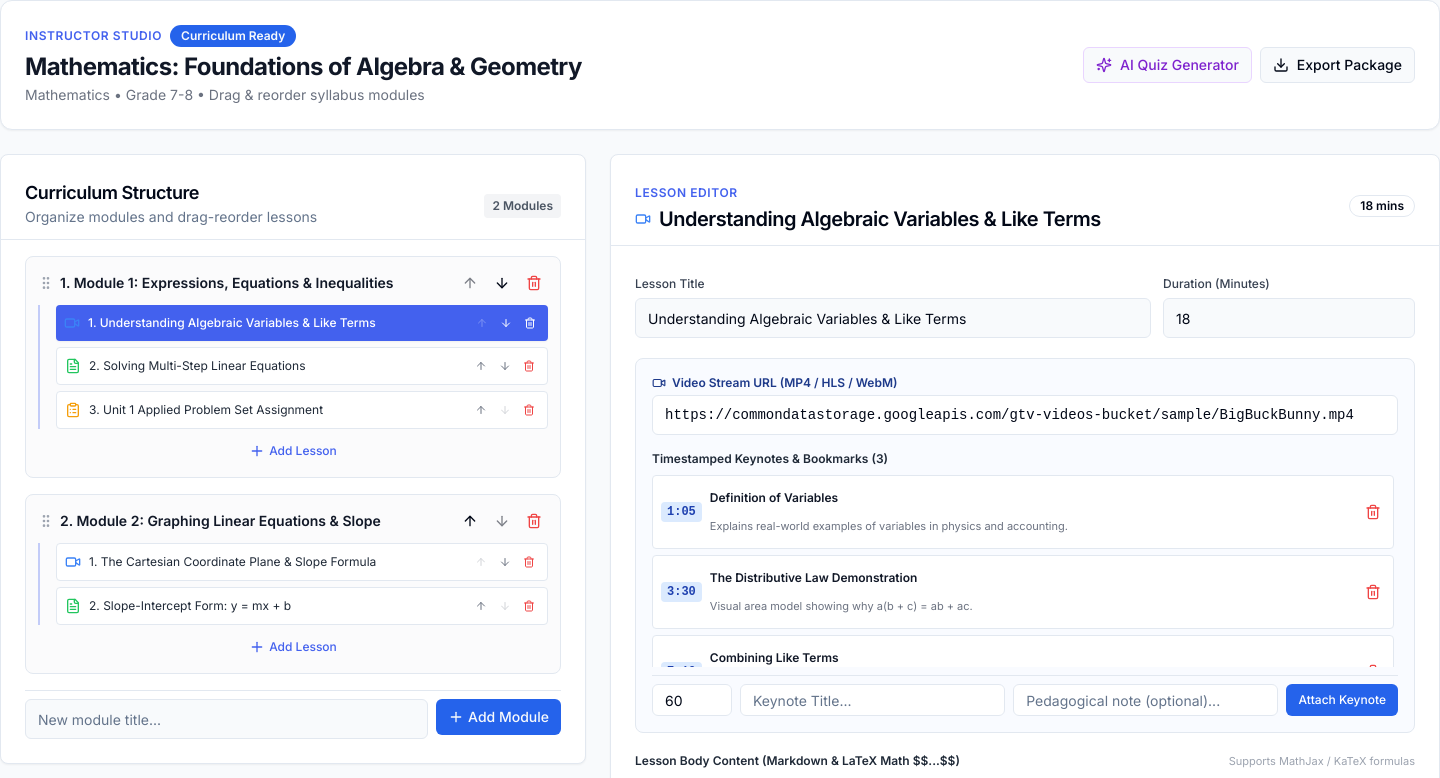
Test case: CourseBuilderStudio Component › attaches a new timestamped keynote to a video lesson
Note: First lesson is a video lesson
Type "Graphing Intersection Points" into the field with placeholder "Keynote Title..." at coordinates (873, 700), box 740,684 -> 1005,716
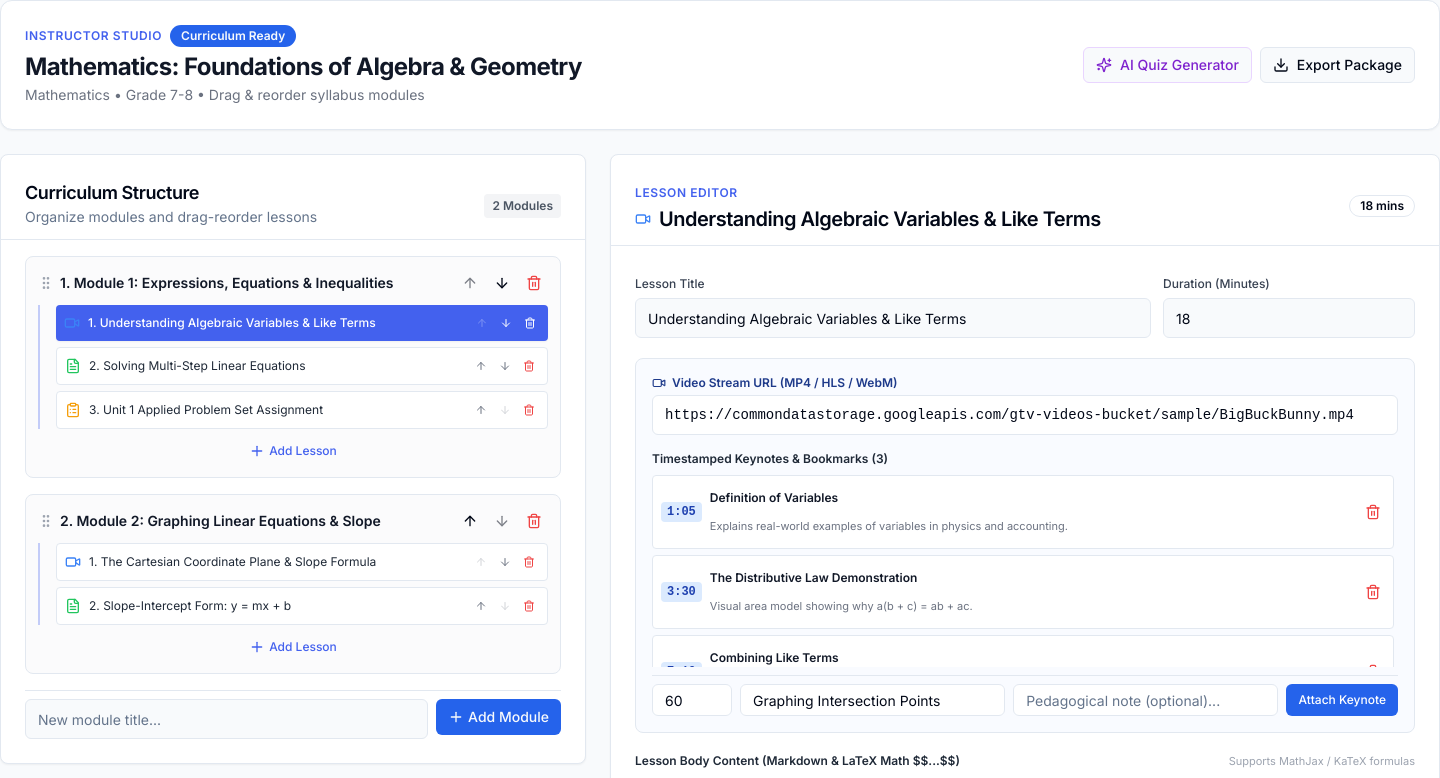
Click the button "Attach Keynote" at coordinates (1342, 700), box 1286,684 -> 1398,716
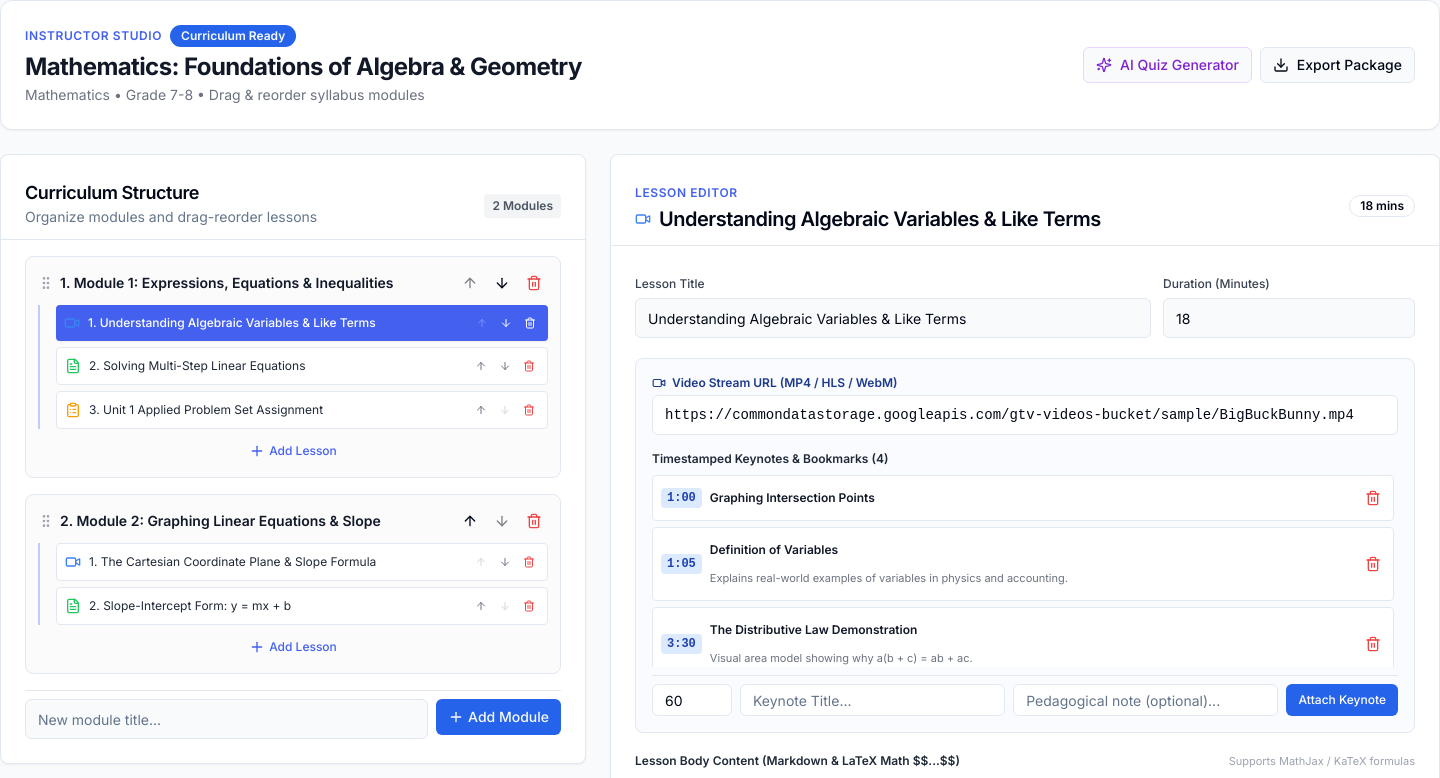
Expected: the text "Graphing Intersection Points" is shown, 710,490 -> 875,505
